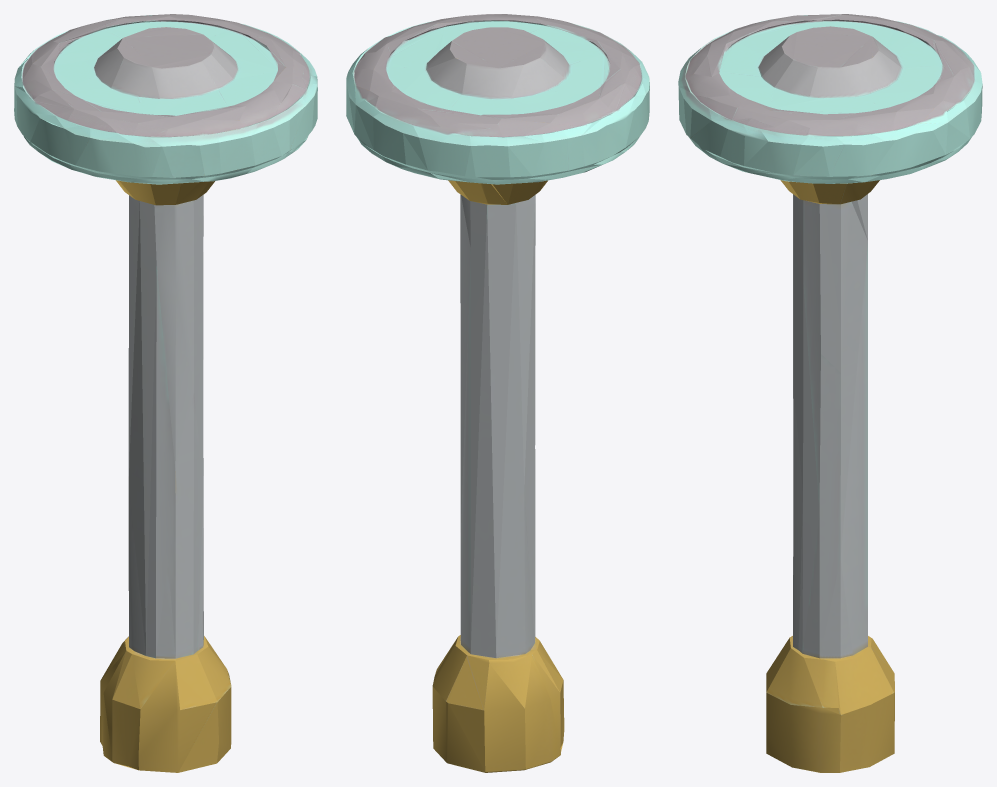
Rendered from lamp.glb.
3 renders of one model, left to right at view 1: azimuth 30°, elevation 25°; view 2: azimuth 150°, elevation 25°; view 3: azimuth 270°, elevation 25°, orthographic.
Bounding box in the file's own units: 0.7508 × 1.9 × 0.7505.
Materials: 1 (1 with a texture image).
